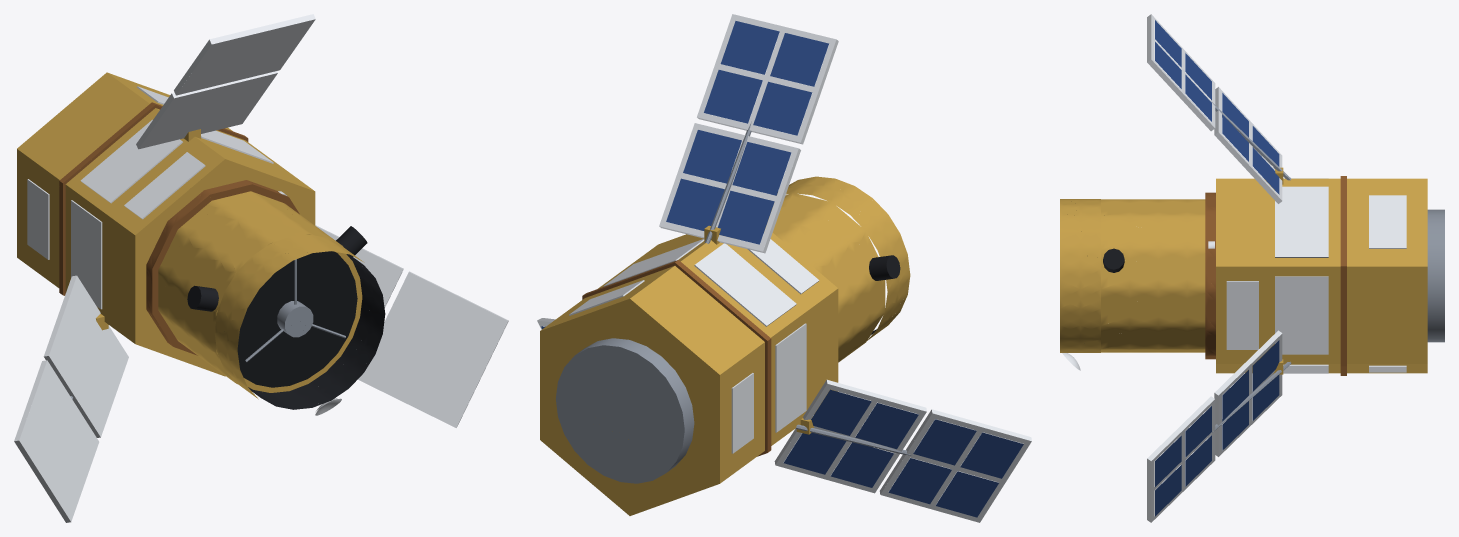
Rendered from kompsat-3.glb.
3 renders of one model, left to right at view 1: azimuth 30°, elevation 25°; view 2: azimuth 150°, elevation 25°; view 3: azimuth 270°, elevation 25°, orthographic. The views are drawn at different scales.
Parts seen in each view (by area): view 1: body, foil; view 2: body, foil, solar-panel; view 3: foil, body, solar-panel.
Part boxes in pixels (x1,y1,x2,y2): body: [14, 14, 508, 522]; foil: [17, 72, 362, 392]; body: [537, 14, 1031, 522]; foil: [540, 192, 885, 515]; solar-panel: [541, 21, 1023, 517]; foil: [1101, 167, 1427, 375]; body: [1060, 14, 1444, 522]; solar-panel: [1155, 20, 1291, 516].
Bounding box in the file's own units: 4.75 × 4.12 × 3.58.
